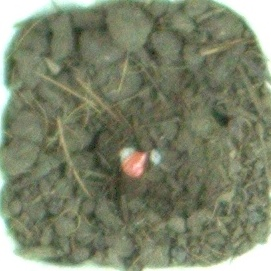chilli seed: (118, 148, 149, 178)
